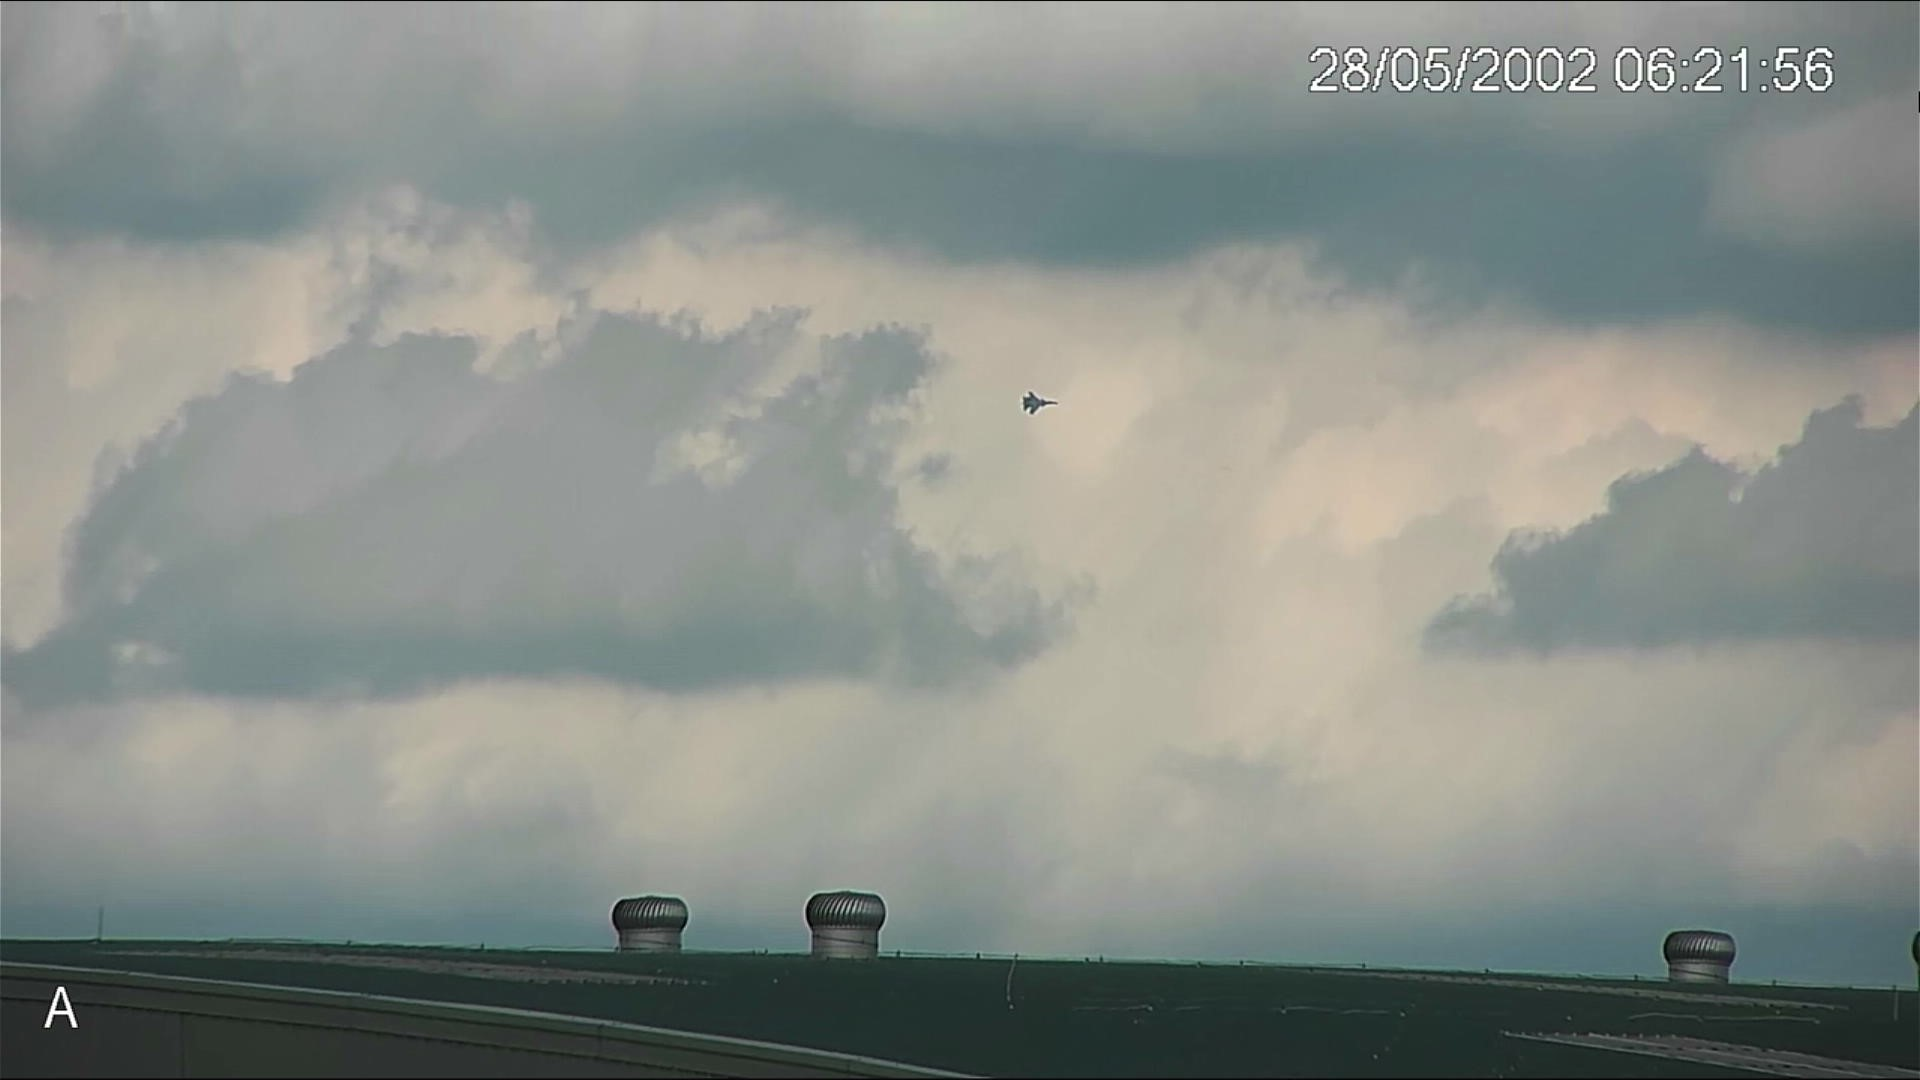SU_30: (1017, 386, 1073, 417)
